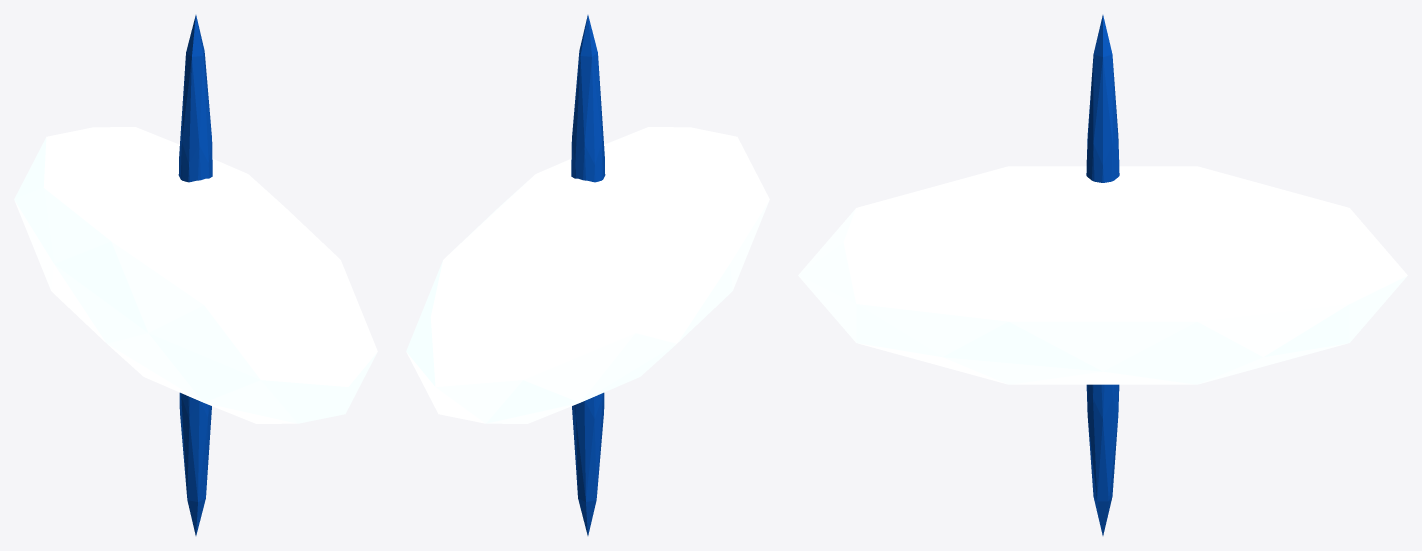
The picture shows the model from 3 angles, left to right: view 1: azimuth 30°, elevation 25°; view 2: azimuth 150°, elevation 25°; view 3: azimuth 270°, elevation 25°; orthographic projection.
Parts seen in each view (by area): view 1: Icosphere, Icosphere.001; view 2: Icosphere, Icosphere.001; view 3: Icosphere, Icosphere.001.
Boxes of the visible parts, x1,y1,x2,y2 form: Icosphere: (14,127,377,423); Icosphere.001: (178,15,212,535); Icosphere: (406,127,769,423); Icosphere.001: (571,15,605,535); Icosphere: (798,166,1407,384); Icosphere.001: (1086,15,1119,535).
Size of the model in its own units: 1.9 by 5.02 by 5.3.
